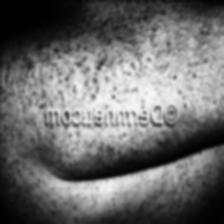Toxin: (40, 62, 190, 104)
